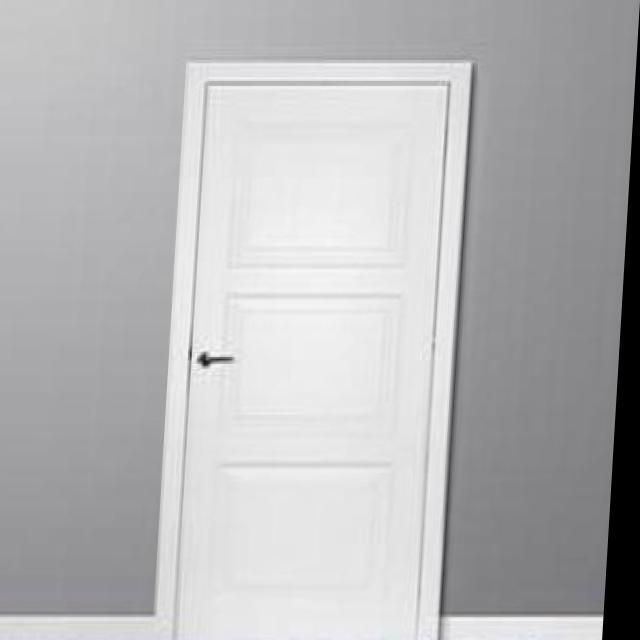door_handle: (192, 348, 244, 376)
